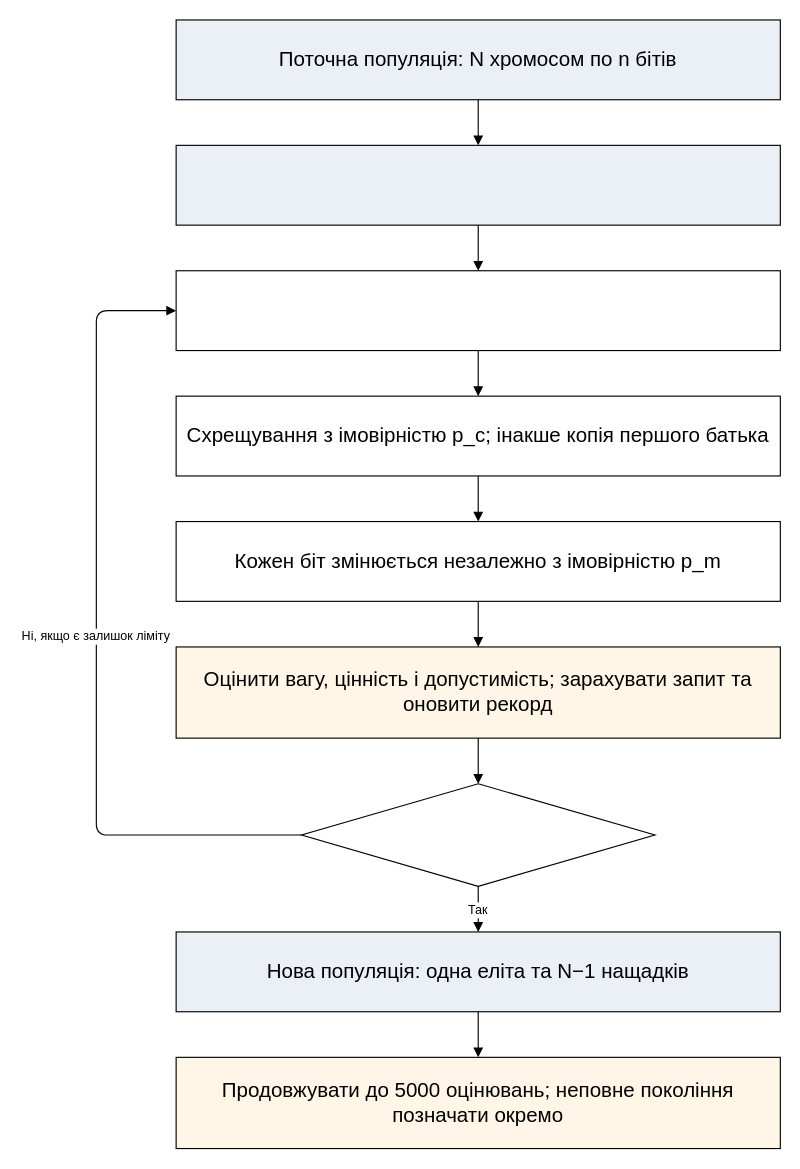
Image size: 800x1169. Some labels were removed from this diagram. Each missing label, with the centre of its shape:
"Два батьки: два незалежні турніри по два кандидати" belongs at pixel 477 310.
"Зберегти одного найкращого представника" belongs at pixel 477 184.
"Зібрано N−1 нащадків?" belongs at pixel 477 834.
